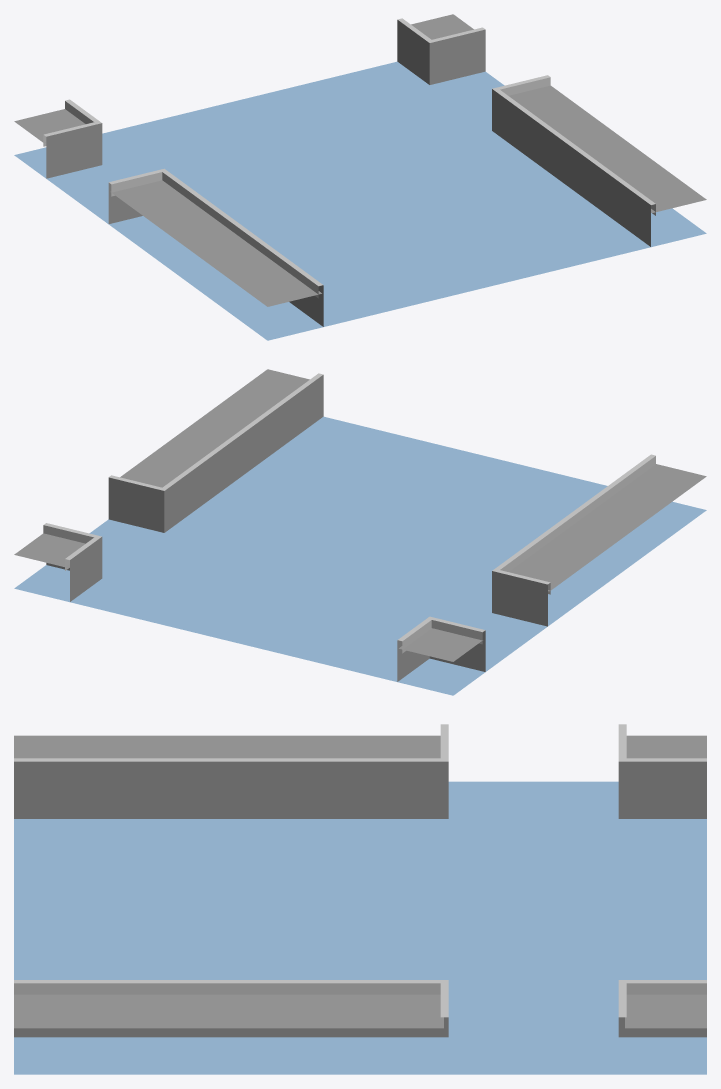
The model's file is road_tile_river_2x2_003.fbx.
3 views of the same model, one above another, from view 1: azimuth 30°, elevation 25°; view 2: azimuth 150°, elevation 25°; view 3: azimuth 270°, elevation 25° (orthographic). The views are drawn at different scales.
Visible parts, largest first — view 1: road_tile_river_2x2_003; view 2: road_tile_river_2x2_003; view 3: road_tile_river_2x2_003.
Boxes of the visible parts, x1,y1,x2,y2 form: road_tile_river_2x2_003: (14, 14, 706, 340); road_tile_river_2x2_003: (14, 369, 706, 695); road_tile_river_2x2_003: (14, 724, 706, 1074).
Bounding box in the file's own units: 1600 × 146 × 1600.
